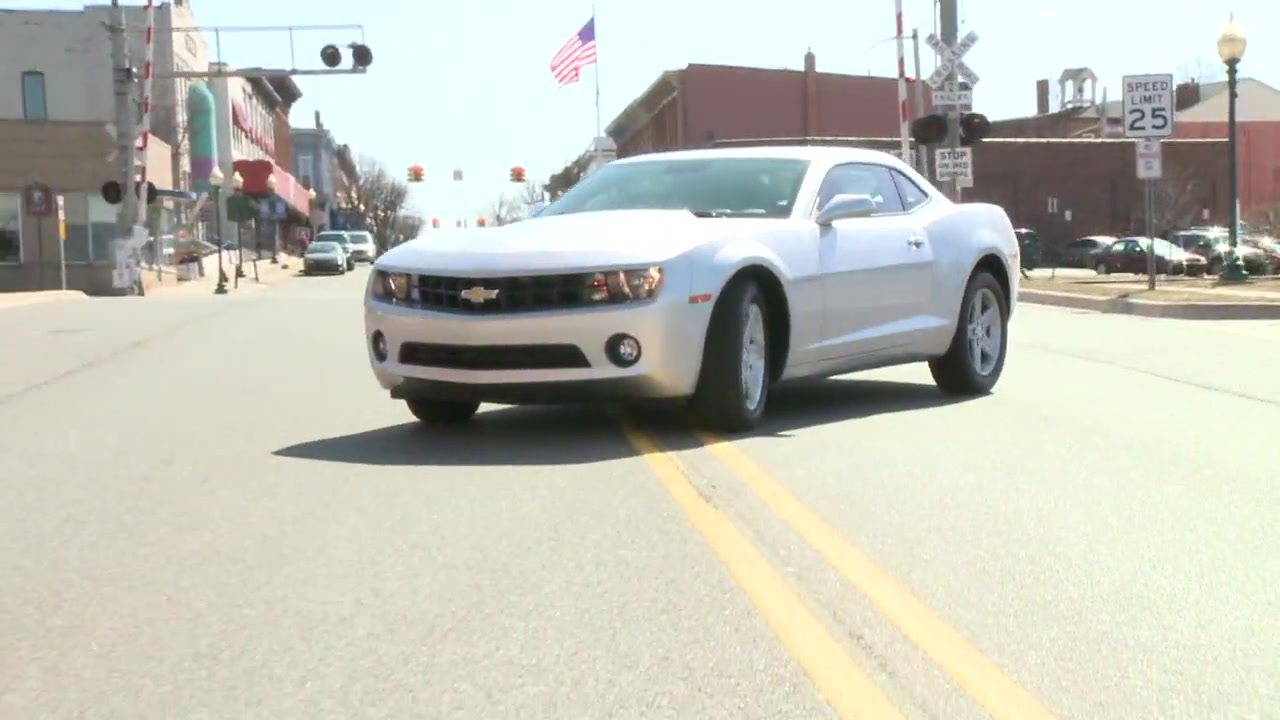car: (361, 138, 1021, 431)
